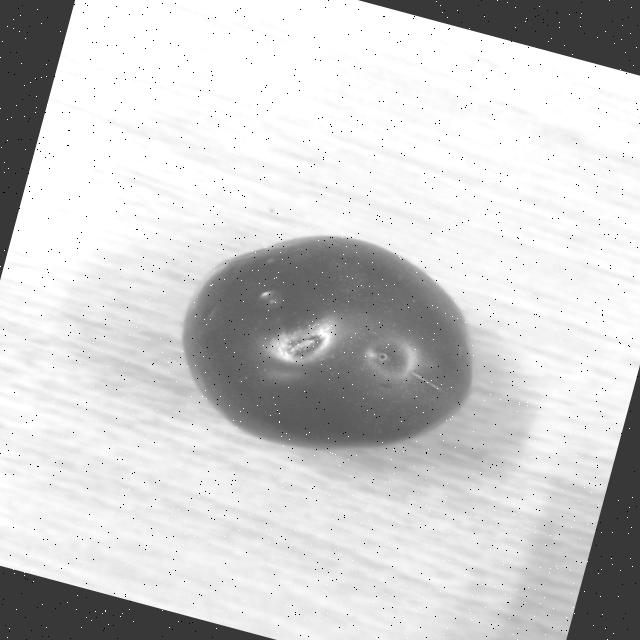Tomato: (158, 197, 503, 488)
